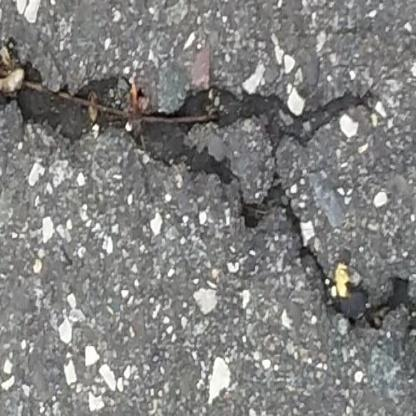Cracks: (0, 35, 416, 359)
